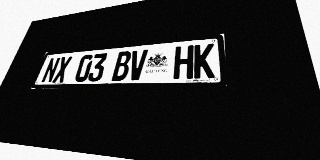0: (73, 54, 94, 82)
3: (87, 53, 108, 82)
B: (111, 51, 132, 81)
H: (173, 45, 194, 79)
K: (193, 43, 215, 79)
N: (40, 57, 61, 83)
V: (127, 49, 148, 81)
X: (52, 56, 72, 83)
